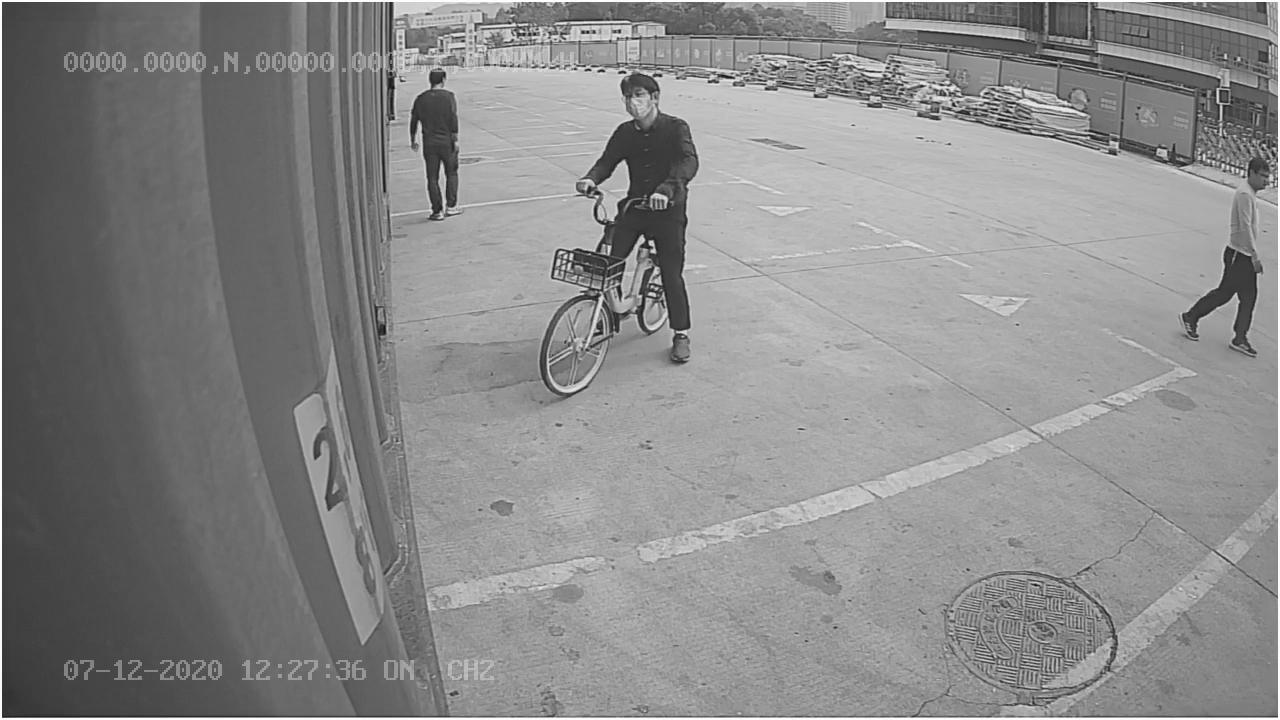person: (405, 64, 468, 223)
